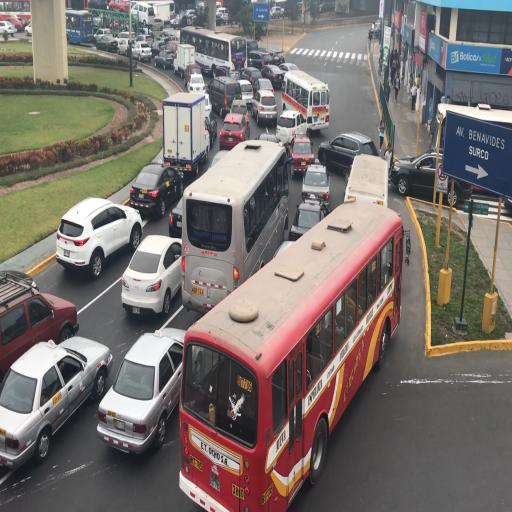auto: (1, 335, 112, 473), (98, 325, 186, 452), (2, 271, 78, 388), (55, 192, 141, 275), (120, 233, 184, 317), (391, 149, 473, 208), (168, 164, 225, 240), (129, 160, 183, 218), (318, 131, 373, 175), (54, 217, 91, 270), (288, 198, 329, 244), (300, 160, 330, 205), (472, 180, 510, 215), (288, 134, 316, 178), (219, 111, 250, 150), (276, 108, 306, 146), (252, 88, 278, 126), (255, 131, 285, 160), (260, 63, 286, 90), (230, 96, 252, 126), (247, 49, 273, 72), (183, 62, 204, 90), (239, 66, 264, 89), (252, 75, 274, 98), (93, 32, 117, 52), (130, 41, 152, 62), (154, 49, 176, 70), (150, 38, 170, 58), (115, 37, 136, 56), (198, 92, 212, 118), (266, 48, 286, 66), (177, 9, 197, 27), (278, 62, 300, 78), (164, 38, 181, 58), (0, 20, 16, 39), (158, 30, 178, 45), (117, 30, 137, 44), (134, 34, 152, 48), (16, 14, 31, 30), (216, 7, 229, 24), (152, 17, 165, 32), (270, 6, 284, 19), (138, 23, 152, 36), (170, 12, 182, 27), (163, 15, 175, 29), (91, 12, 101, 28), (24, 22, 32, 36)
bus: (183, 159, 391, 499), (281, 67, 329, 134), (181, 26, 232, 78), (65, 8, 94, 45)
camion: (162, 92, 210, 182), (344, 153, 386, 207), (174, 42, 196, 79)
